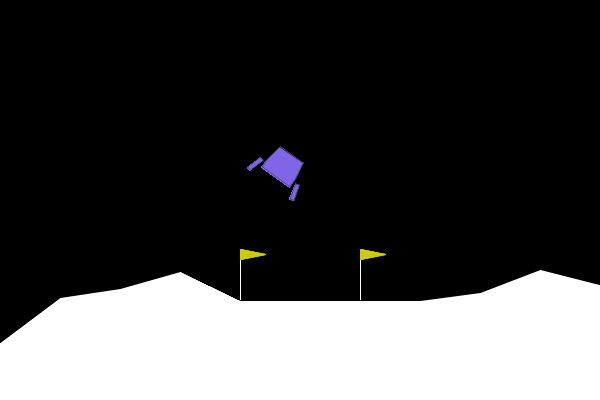lander: (245, 136, 317, 203)
